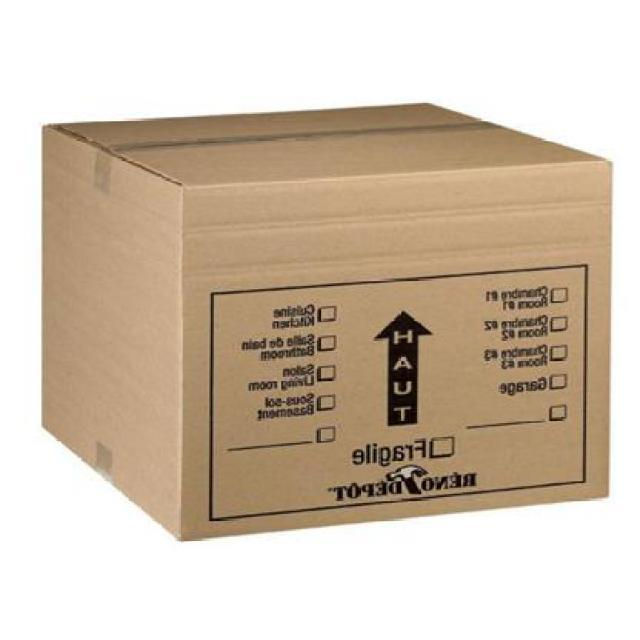Kardus kondisi bagus: (38, 105, 617, 542)
